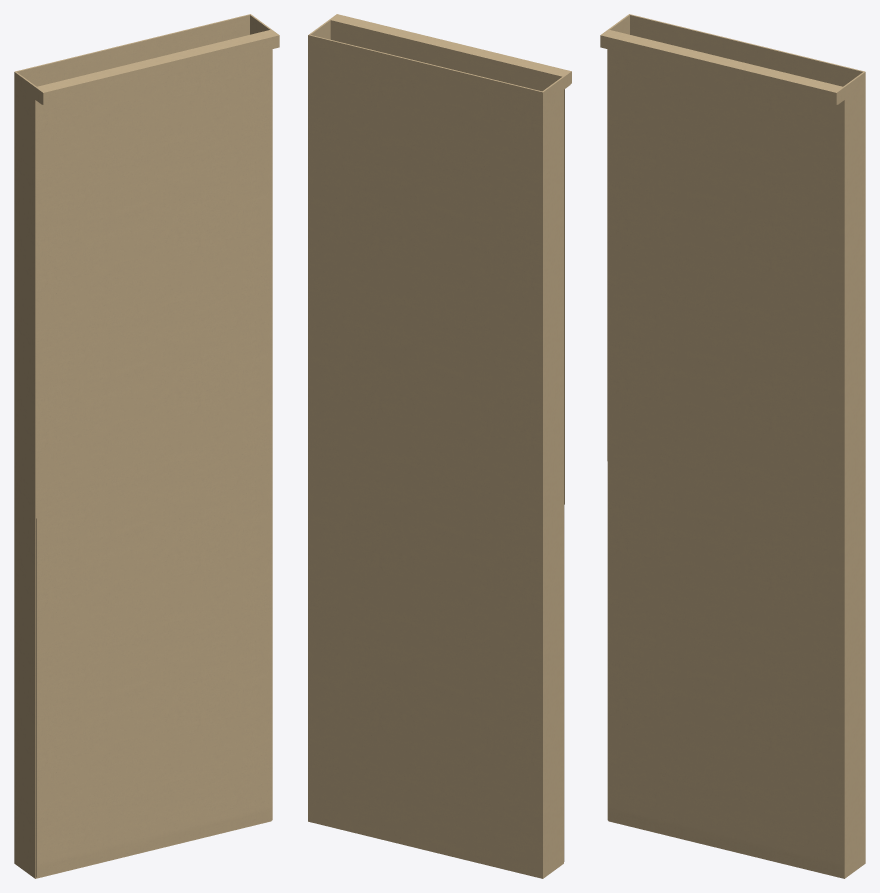
Rendered from spawn-a-receiver-lsw-s-part-2.glb.
The picture shows the model from 3 angles, left to right: view 1: azimuth 30°, elevation 25°; view 2: azimuth 150°, elevation 25°; view 3: azimuth 330°, elevation 25°; orthographic projection.
Visible parts, largest first — view 1: bz06_sand_plaster-cast; view 2: bz06_sand_plaster-cast; view 3: bz06_sand_plaster-cast.
Boxes of the visible parts, left/top/right/bottom form: bz06_sand_plaster-cast: left=14, top=14, right=279, bottom=878; bz06_sand_plaster-cast: left=308, top=14, right=571, bottom=878; bz06_sand_plaster-cast: left=600, top=14, right=865, bottom=878.
Bounding box in the file's own units: 3.1 × 9.92 × 0.66.
1 material, 1 textured.
